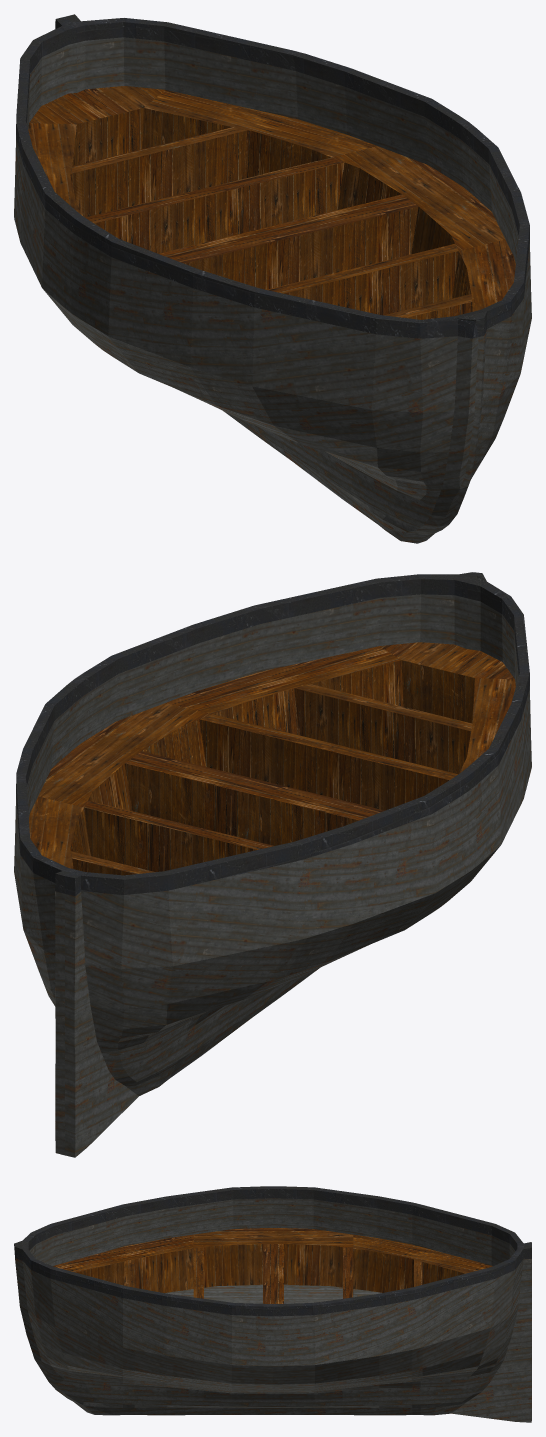
File: LifeBoat.glb
3 views of the same model, one above another, from view 1: azimuth 30°, elevation 25°; view 2: azimuth 150°, elevation 25°; view 3: azimuth 270°, elevation 25° (orthographic). The views are drawn at different scales.
Parts seen in each view (by area): view 1: LifeBoat; view 2: LifeBoat; view 3: LifeBoat.
Part boxes in pixels (bbox=[...]): LifeBoat: bbox=[14, 14, 531, 543]; LifeBoat: bbox=[14, 572, 531, 1157]; LifeBoat: bbox=[14, 1186, 531, 1422].
Size of the model in its own units: 2.8 by 1.87 by 5.01.
3 materials, 3 textured.
